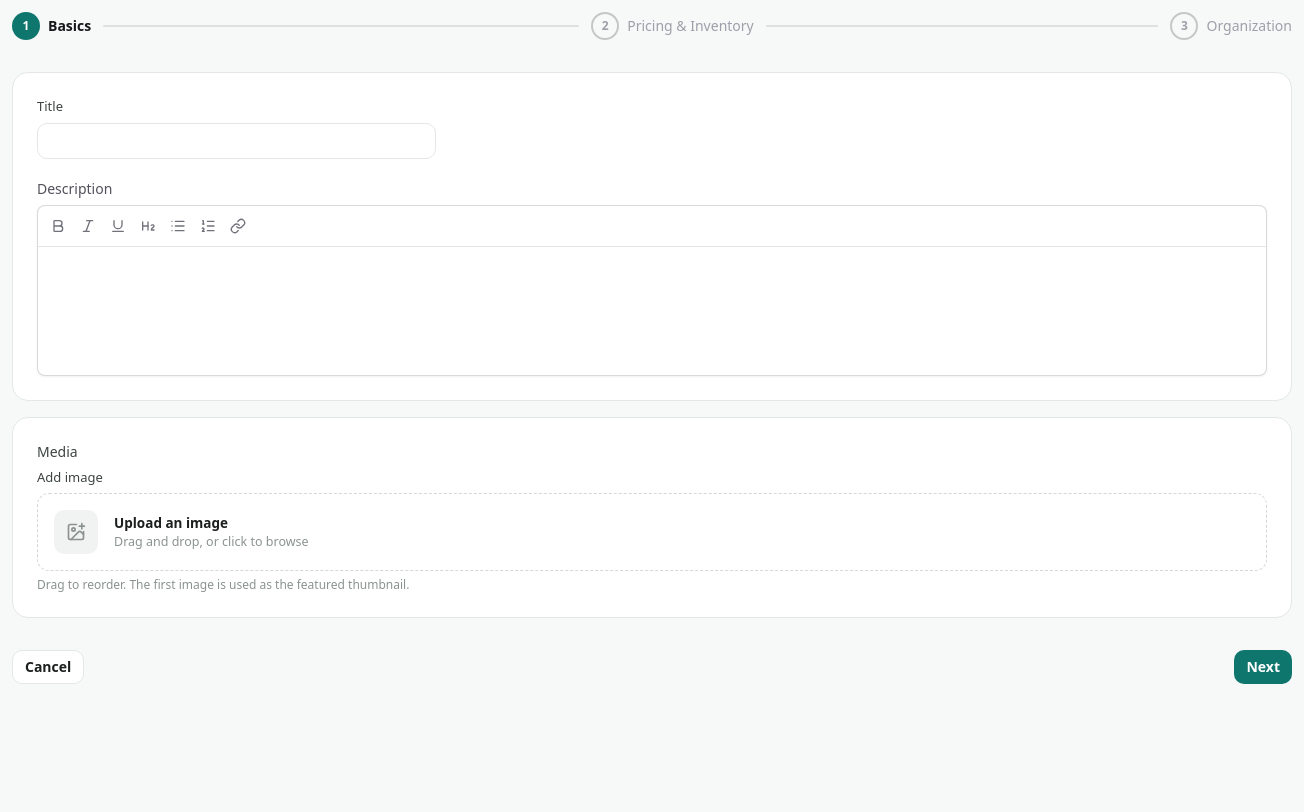
Scenario: ProductForm wizard › shows the summary card with title + price on Step 3 with a Create product button
This screenshot has width=1304, height=812.
Type "New Product" into the field labelled "Title" at (237, 140), box left=37, top=122, right=436, bottom=158
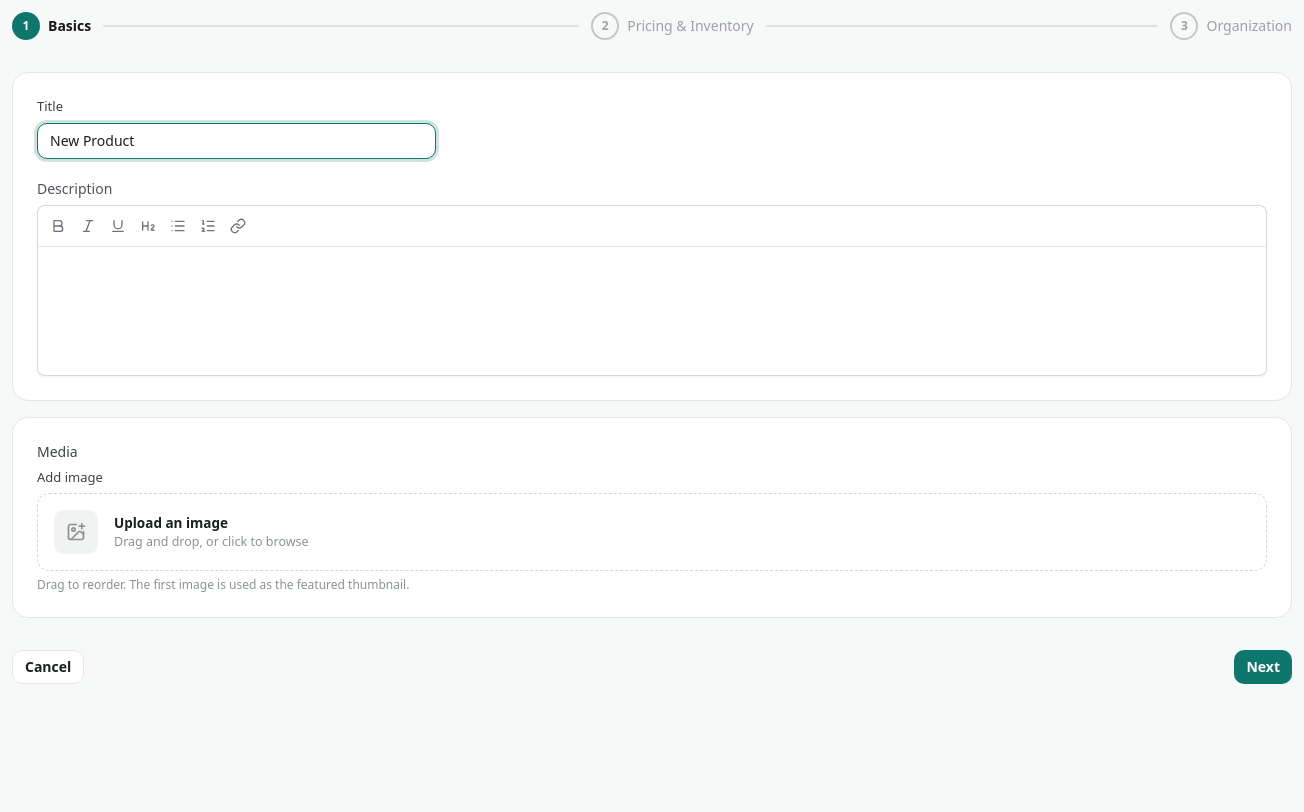
Click the button "Next" at (1263, 667), box left=1234, top=650, right=1292, bottom=684
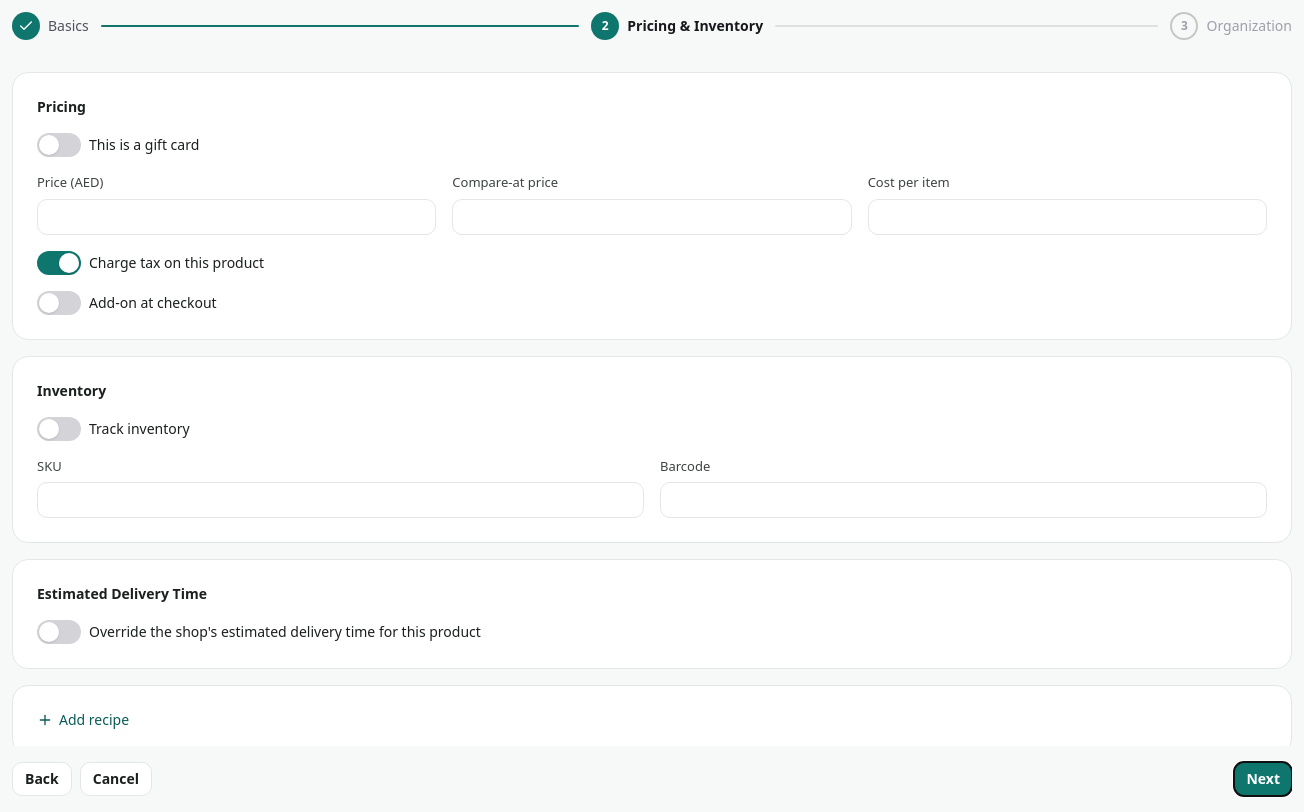
Expected: the text "Price (AED)" is shown, left=37, top=173, right=103, bottom=192
Type "50" into the number field labelled "Price (AED)" at (237, 216), box left=37, top=198, right=436, bottom=234
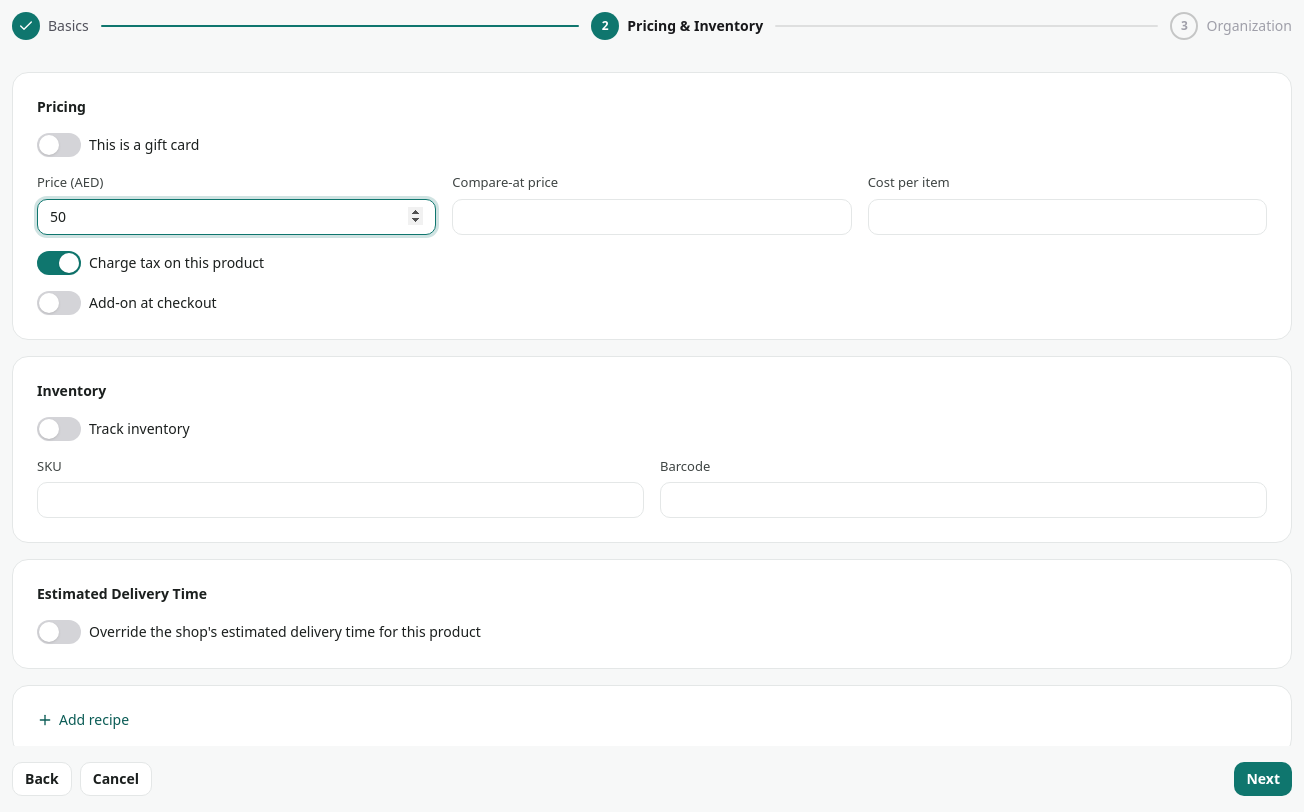
Click the button "Next" at (1263, 779), box left=1234, top=762, right=1292, bottom=796
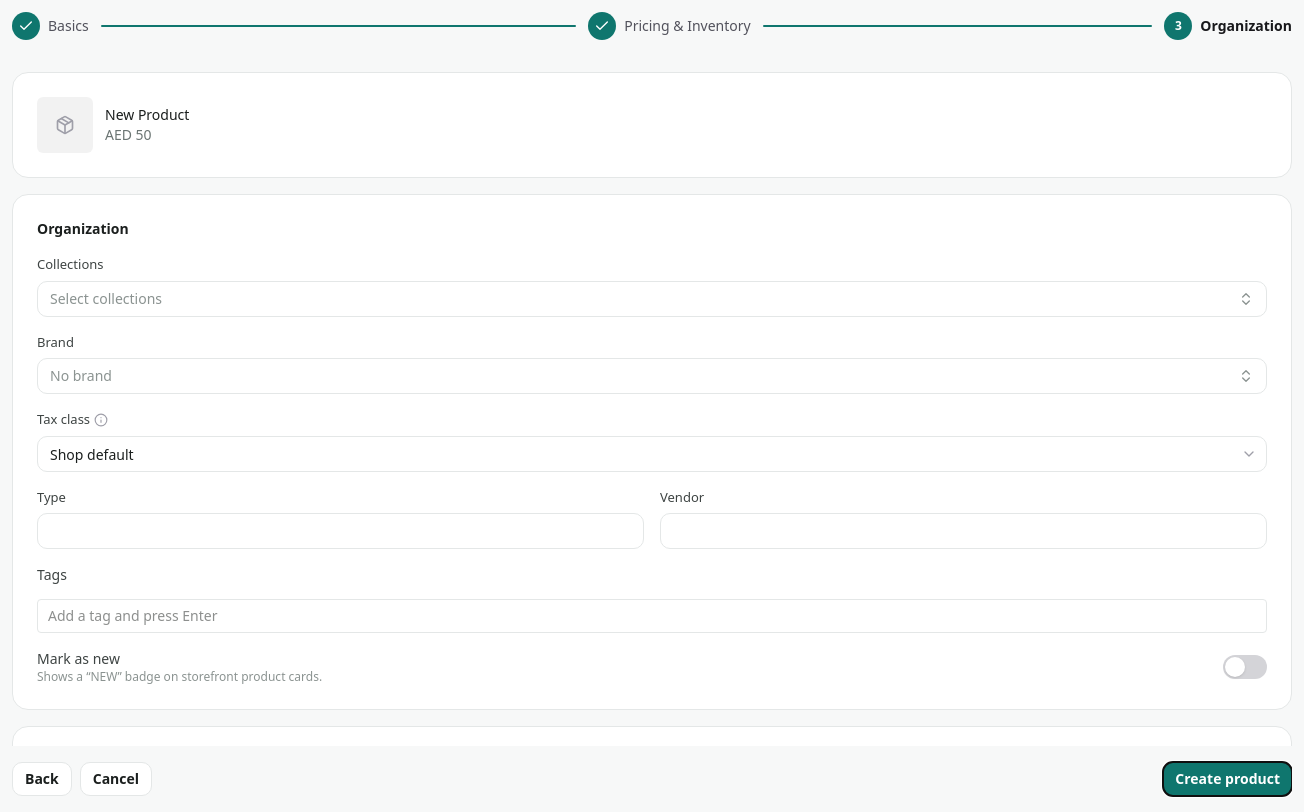
Expected: the button "Create product" is shown, left=1163, top=762, right=1292, bottom=796
Expected: the text "New Product" is shown, left=105, top=105, right=189, bottom=125
Expected: the text "AED 50" is shown, left=105, top=125, right=152, bottom=144
